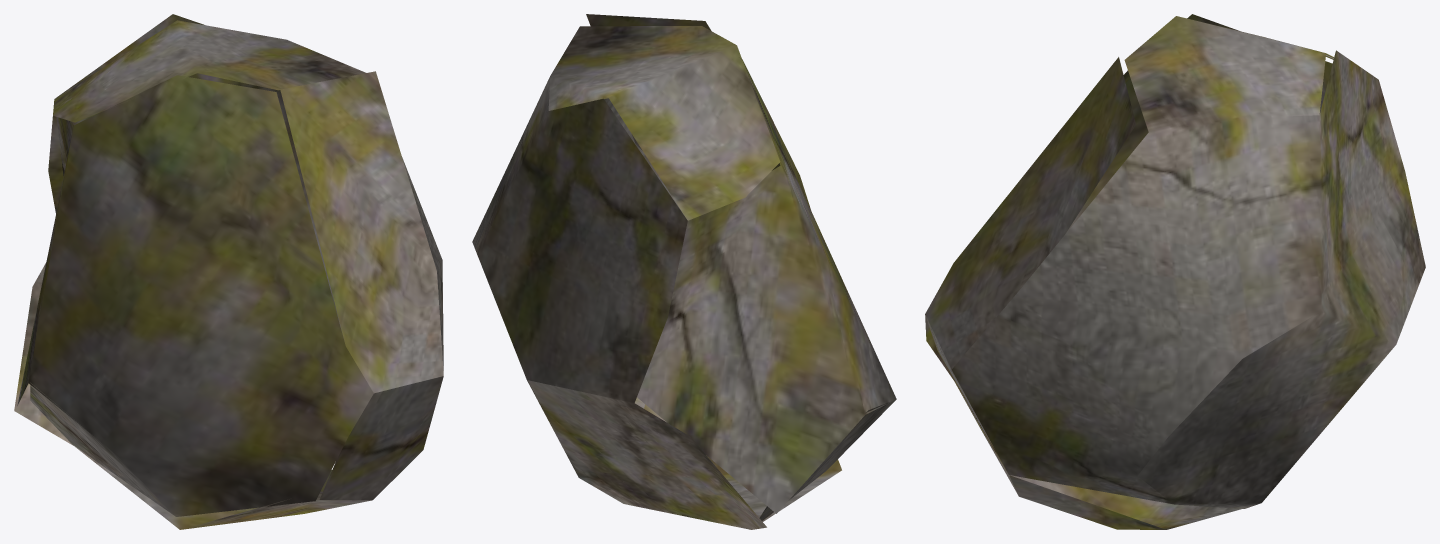
The model's file is rock_009.glb.
3 renders of one model, left to right at view 1: azimuth 30°, elevation 25°; view 2: azimuth 150°, elevation 25°; view 3: azimuth 270°, elevation 25°, orthographic. The views are drawn at different scales.
Visible parts, largest first — view 1: rock.009; view 2: rock.009; view 3: rock.009.
Boxes of the visible parts, x1,y1,x2,y2 form: rock.009: (14,14,443,529); rock.009: (472,14,896,529); rock.009: (925,14,1425,529).
Bounding box in the file's own units: 0.5627 × 0.6421 × 0.6176.
Materials: 1 (1 with a texture image).
